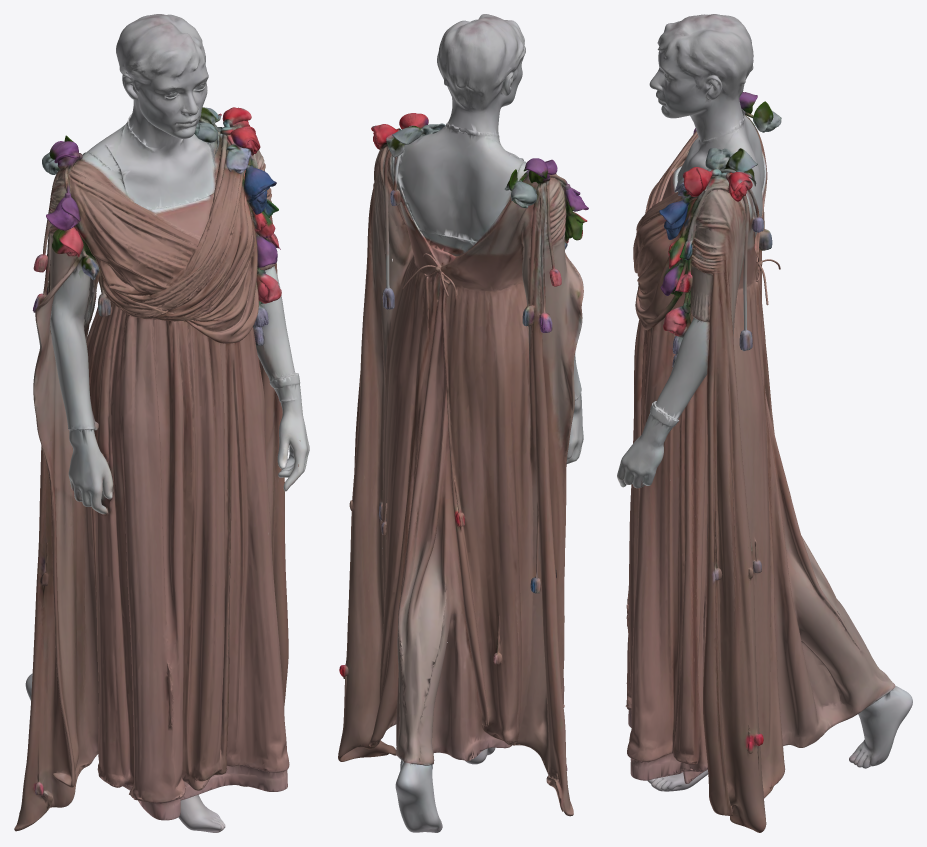
3 views of the same model, side by side, from view 1: azimuth 30°, elevation 25°; view 2: azimuth 150°, elevation 25°; view 3: azimuth 270°, elevation 25° (orthographic). The views are drawn at different scales.
Visible parts, largest first — view 1: tripo_node_da55b9ea-3e08-4a47-834e-1121d383f096; view 2: tripo_node_da55b9ea-3e08-4a47-834e-1121d383f096; view 3: tripo_node_da55b9ea-3e08-4a47-834e-1121d383f096.
Boxes of the visible parts, x1,y1,x2,y2 form: tripo_node_da55b9ea-3e08-4a47-834e-1121d383f096: (14,14,309,832); tripo_node_da55b9ea-3e08-4a47-834e-1121d383f096: (338,14,588,832); tripo_node_da55b9ea-3e08-4a47-834e-1121d383f096: (617,14,912,832).
Size of the model in its own units: 0.3214 by 0.9811 by 0.3462.
1 material, 1 textured.
